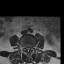CCS_normal: (27, 46, 29, 54)
LFS_severe_stenosis: (30, 45, 32, 49)
LLS_stenosis: (29, 46, 30, 51)
RFS_severe_stenosis: (24, 45, 26, 50)
RLS_stenosis: (26, 46, 27, 51)
